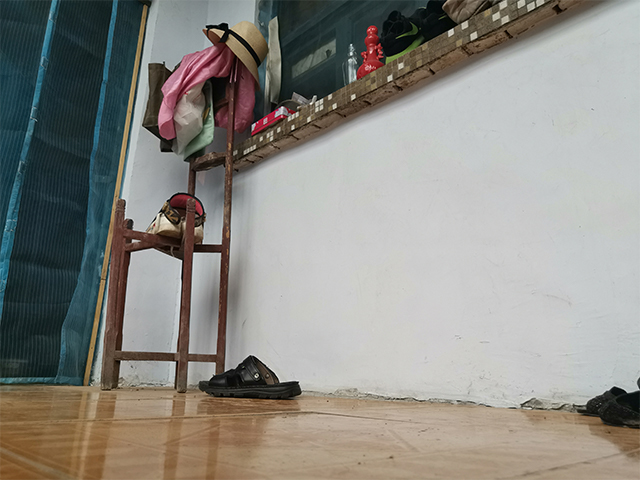slippers: (196, 353, 305, 400)
